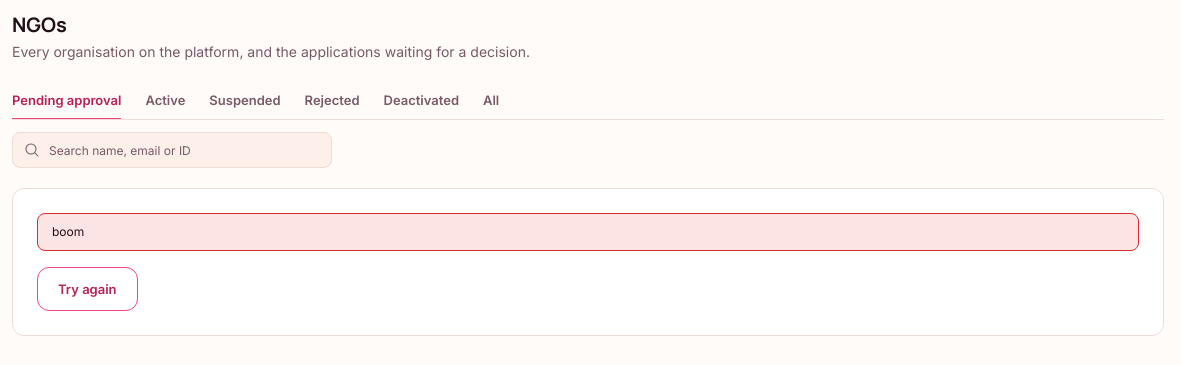
Scenario: NgosPage › shows a load failure with a retry that recovers
Expected: the message reads "boom", x1=52 y1=224 x2=84 y2=239
Click the button named "Try again": (87, 289) x1=37 y1=267 x2=138 y2=311
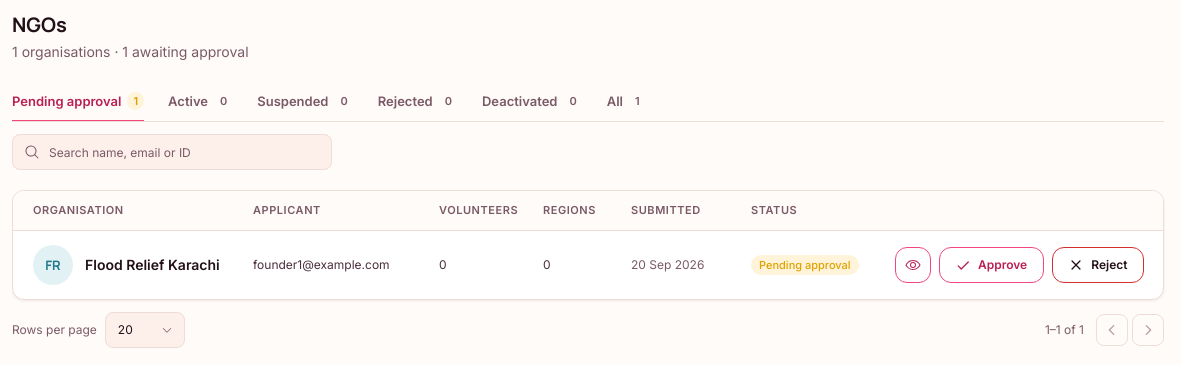
Result: the text "Flood Relief Karachi" is shown at x1=85 y1=255 x2=220 y2=275
Result: the message "boom" is gone
